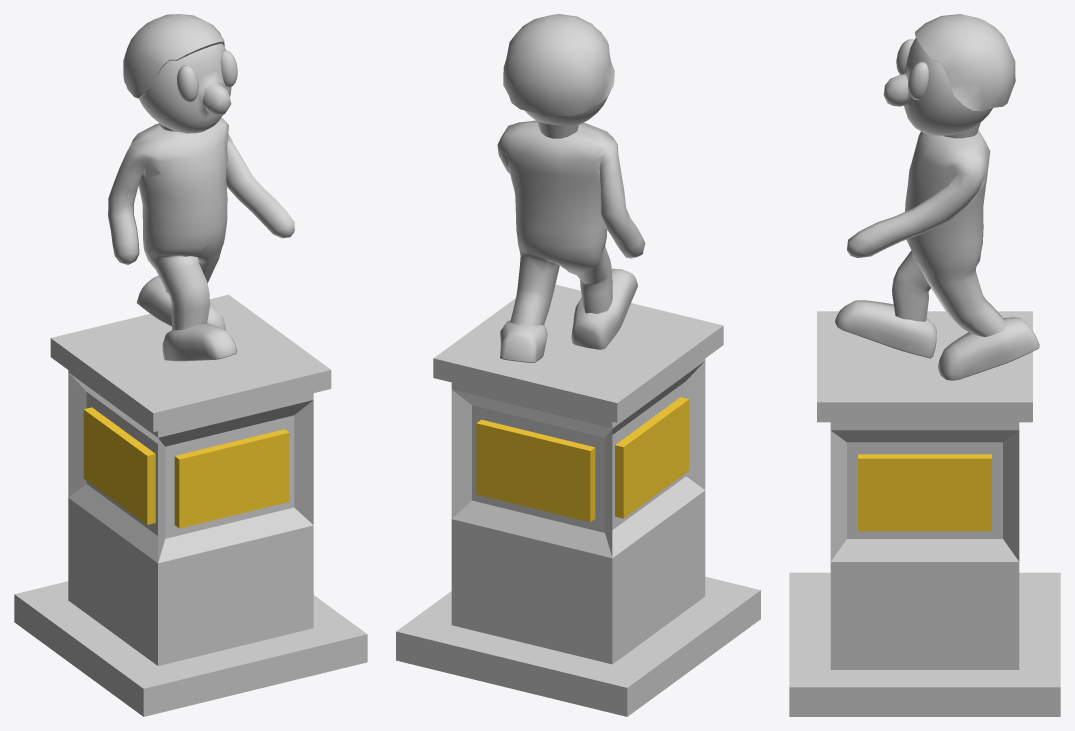
File: TMM3_V002.fbx
The picture shows the model from 3 angles, left to right: view 1: azimuth 30°, elevation 25°; view 2: azimuth 150°, elevation 25°; view 3: azimuth 270°, elevation 25°; orthographic projection. The views are drawn at different scales.
Parts seen in each view (by area): view 1: Cube, body; view 2: Cube, body; view 3: Cube, body.
Part boxes in pixels (<box>): Cube: <box>14,294,367,716</box>; body: <box>108,14,294,361</box>; Cube: <box>396,284,760,716</box>; body: <box>497,14,645,362</box>; Cube: <box>789,311,1060,716</box>; body: <box>835,14,1039,380</box>.
Bounding box in the file's own units: 120 × 312 × 120.
